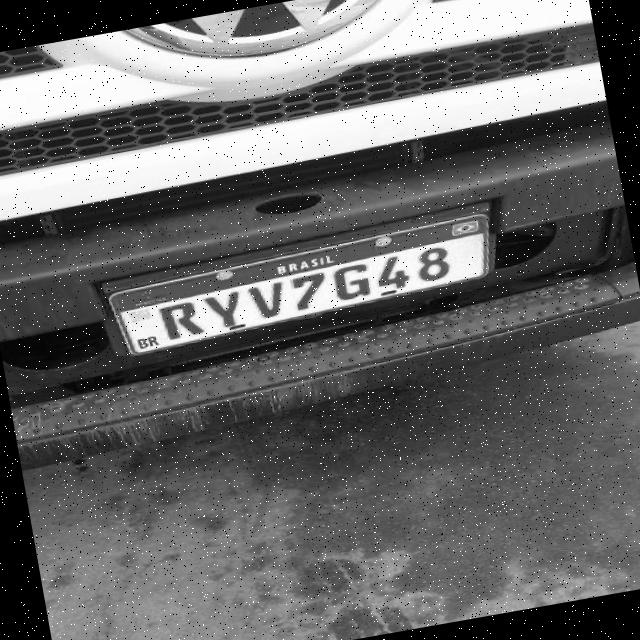placa_mercosul: (108, 208, 489, 352)
